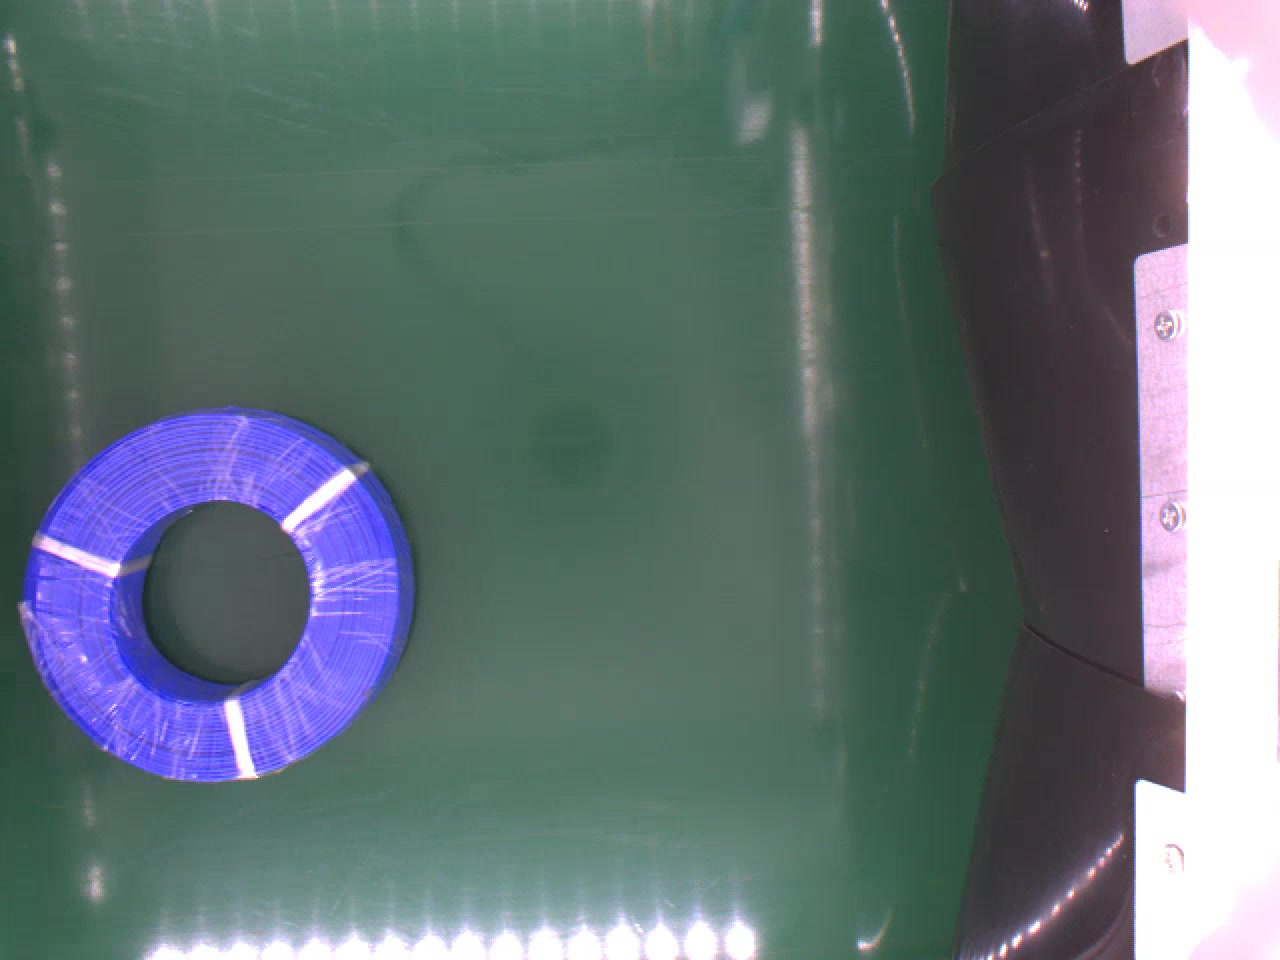blue: (17, 406, 414, 784)
